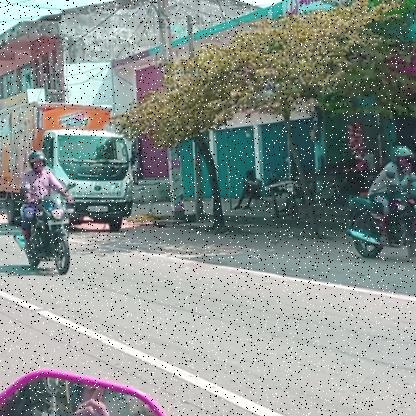motorcycle: (8, 193, 76, 279)
